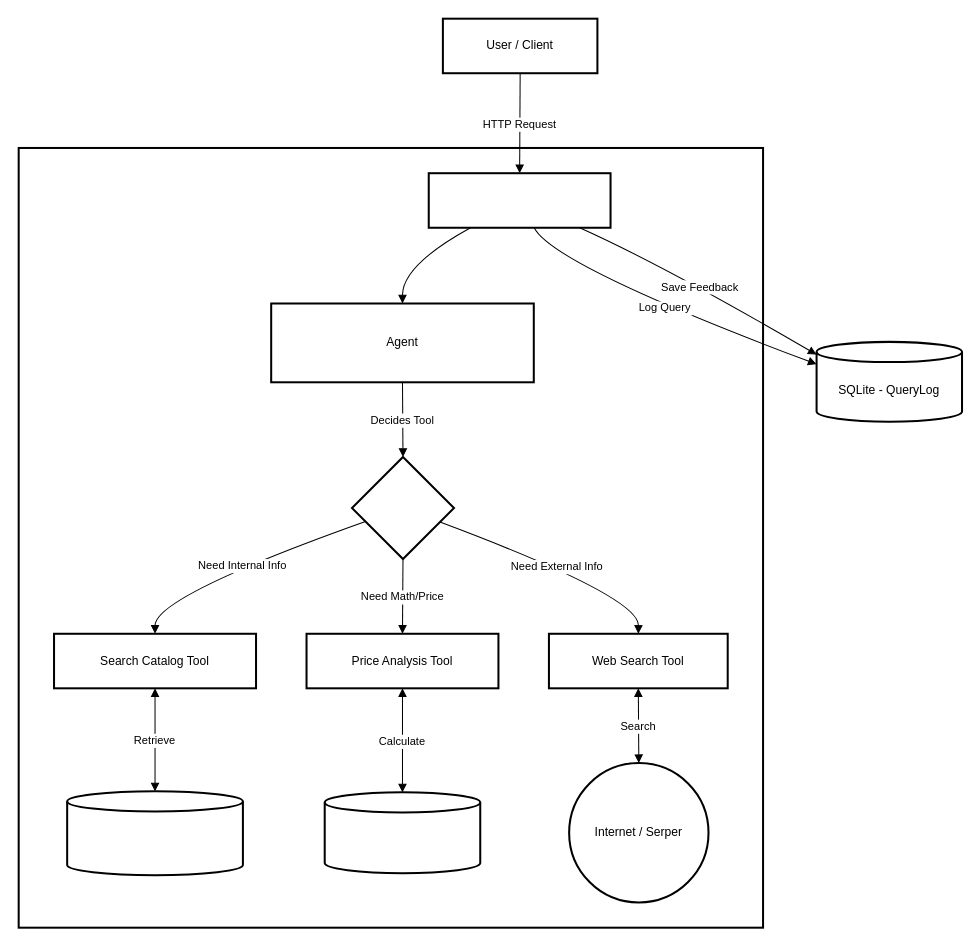
This 980x945 diagram has some shape labels left out. Each missing label, with the centre of its shape:
"DataFrame Memory" belongs at pixel 402 832.
"FastAPI Gateway" belongs at pixel 519 200.
"Router" belongs at pixel 402 508.
"Vector Store - Chroma" belongs at pixel 154 833.
